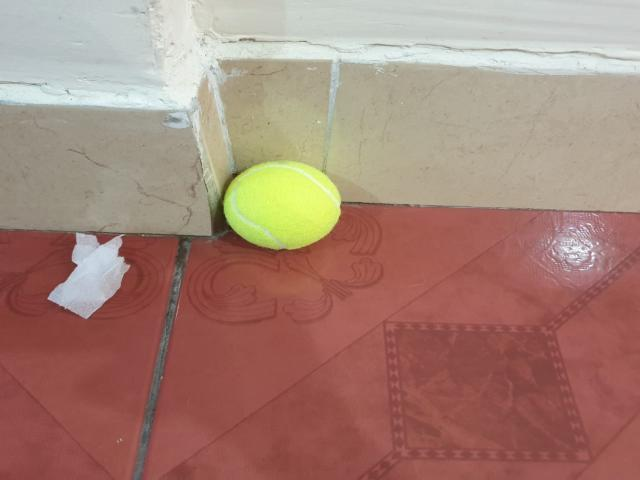tennis-ball: (222, 160, 342, 250)
